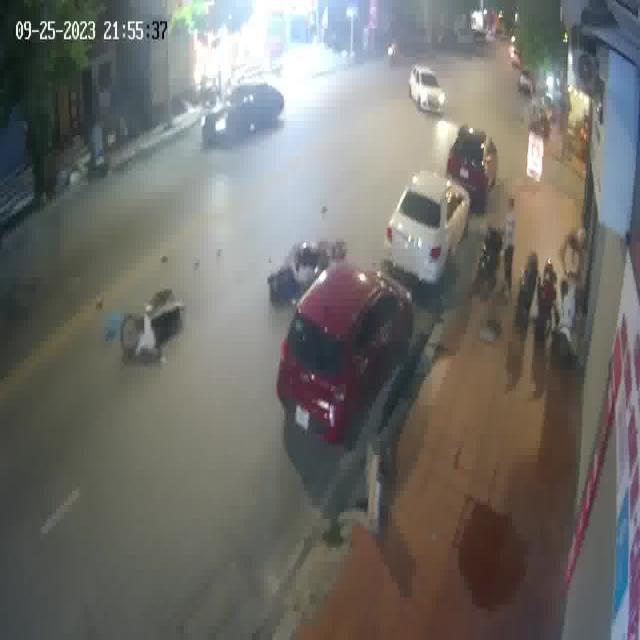multiple_accident: (86, 198, 352, 376)
normal: (190, 60, 307, 159), (403, 47, 454, 133)
